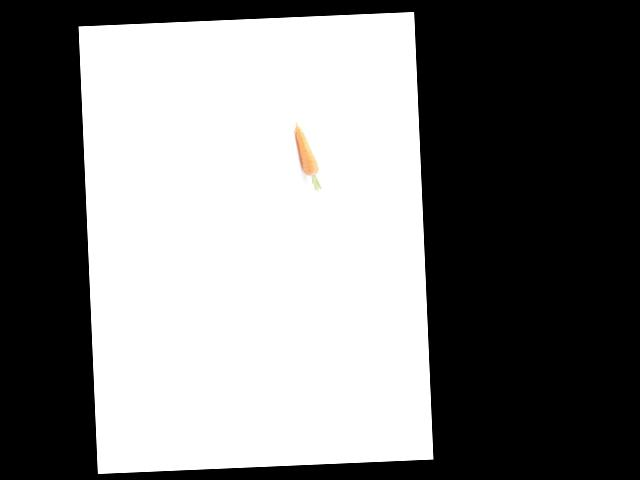carrot: (288, 119, 325, 182)
